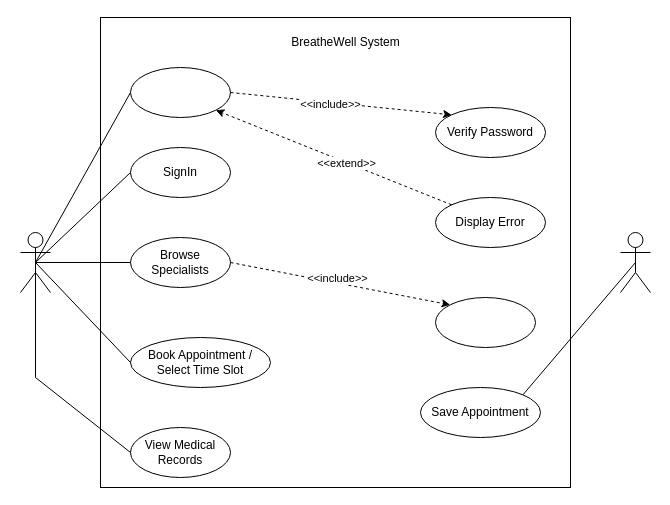
Image size: 670x505. Some labels were removed from this diagram. The box of each missing label's shape, as (x1, y1, x2, y2) in pixels:
Admin: (620, 232, 650, 292)
Patient: (20, 232, 50, 292)
SignUp: (130, 66, 230, 118)
View Doctor Profile: (434, 296, 536, 348)
